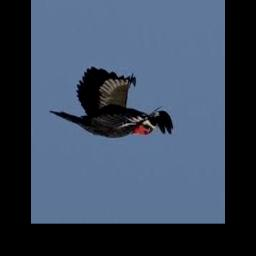Woodpecker: (48, 66, 173, 139)
